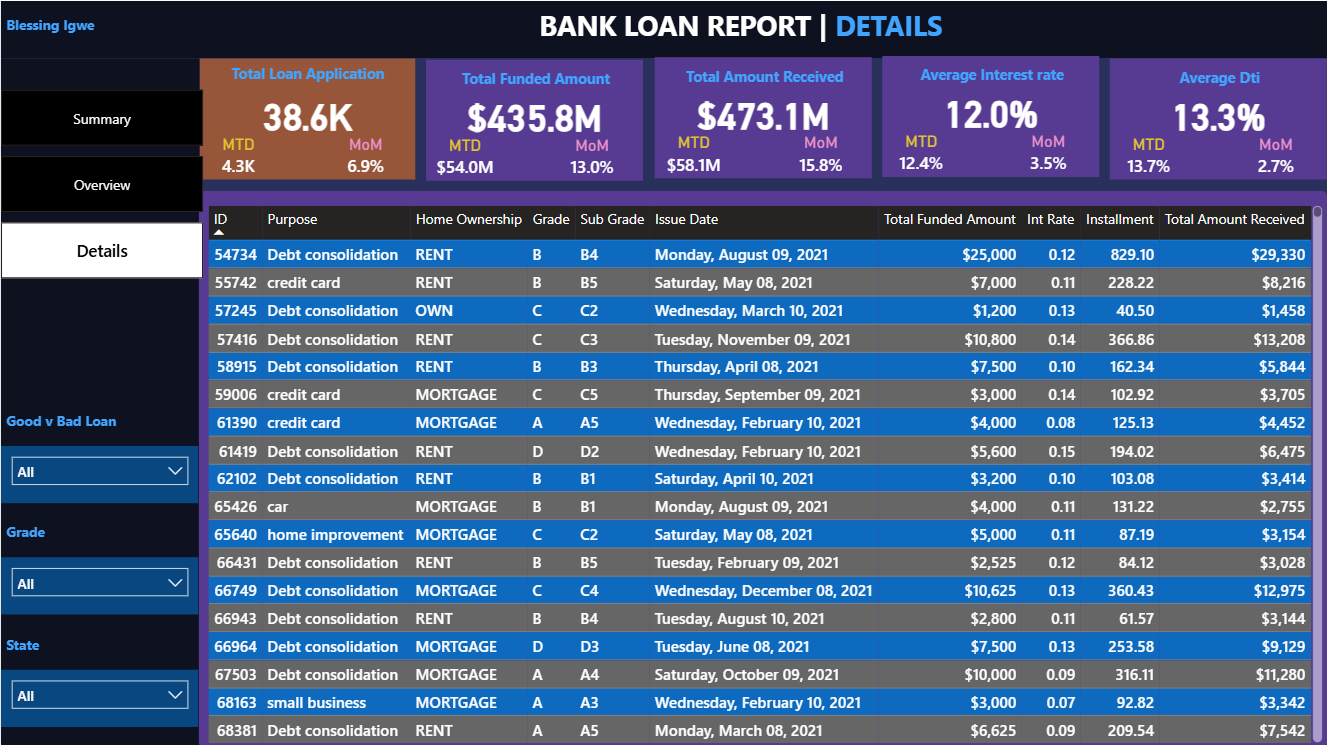

What the dashboard file says about the page in this screenshot:
{"tool":"powerbi","page":{"name":"Details","canvas":[1280,720],"ordinal":2},"visuals":[{"type":"shape","box":[0,0,1280.3,55],"z":0},{"type":"shape","box":[0,55.5,191.8,664.7],"z":1000},{"type":"textbox","box":[495.8,0,444,55.5],"z":2000},{"type":"shape","box":[850.2,53.1,209.4,117],"z":3000,"group":"g4"},{"type":"shape","box":[630.4,54.3,209.4,117],"z":3000,"group":"g3"},{"type":"group","id":"g1","title":"Group 1","box":[191.8,55.5,208.7,117],"z":3000},{"type":"shape","box":[191.8,55.5,208.2,117],"z":3000,"group":"g1"},{"type":"shape","box":[1070.1,55.5,209.4,117],"z":3000,"group":"g5"},{"type":"shape","box":[410.5,56.7,209.4,117],"z":3000,"group":"g2"},{"type":"group","id":"g2","title":"Group 1","box":[410.5,56.7,209.9,117],"z":4000},{"type":"card","fields":{"Values":["_Measures.Avg Interest Rate"]},"box":[850.2,85.7,209.9,42.2],"z":4000,"group":"g4"},{"type":"card","fields":{"Values":["_Measures.Total Amount Received"]},"box":[630.4,86.9,209.9,42.2],"z":4000,"group":"g3"},{"type":"card","fields":{"Values":["_Measures.Total Loan Applications"]},"box":[191.8,88.1,208.7,42.2],"z":4000,"group":"g1"},{"type":"card","fields":{"Values":["_Measures.Average Dti"]},"box":[1070.1,88.1,209.9,42.2],"z":4000,"group":"g5"},{"type":"card","fields":{"Values":["_Measures.Total Funded Amount"]},"box":[410.5,89.3,209.9,42.2],"z":4000,"group":"g2"},{"type":"group","id":"g3","title":"Group 1","box":[630.4,54.3,209.9,117],"z":5000},{"type":"textbox","box":[191.8,55.5,208.7,32.6],"z":5000,"group":"g1"},{"type":"textbox","box":[852.6,57.1,207.5,29],"z":5000,"group":"g4"},{"type":"textbox","box":[632.8,58.3,207.5,29],"z":5000,"group":"g3"},{"type":"textbox","box":[1072.5,59.5,207.5,29],"z":5000,"group":"g5"},{"type":"textbox","box":[412.9,60.7,207.5,29],"z":5000,"group":"g2"},{"type":"group","id":"g4","title":"Group 1","box":[850.2,53.1,209.9,117],"z":6000},{"type":"card","title":"MTD","fields":{"Values":["_Measures.MTD Avg Int Rate"]},"box":[850.2,126.7,75.1,43.4],"z":6000,"group":"g4"},{"type":"card","title":"MTD","fields":{"Values":["_Measures.MTD Amount Received"]},"box":[630.4,127.9,75.1,43.4],"z":6000,"group":"g3"},{"type":"card","title":"MTD","fields":{"Values":["_Measures.MTD Loan Applications"]},"box":[191.8,129.1,74.7,43.4],"z":6000,"group":"g1"},{"type":"card","title":"MTD","fields":{"Values":["_Measures.MTD Dti"]},"box":[1070.1,129.1,75.1,43.4],"z":6000,"group":"g5"},{"type":"card","title":"MTD","fields":{"Values":["_Measures.MTD Funded Amount"]},"box":[410.5,130.3,75.1,43.4],"z":6000,"group":"g2"},{"type":"group","id":"g5","title":"Group 1","box":[1070.1,55.5,209.9,117],"z":7000},{"type":"card","title":"MoM","fields":{"Values":["_Measures.Mom Avg Int"]},"box":[977.2,126.7,67.4,43.4],"z":7000,"group":"g4"},{"type":"card","title":"MoM","fields":{"Values":["_Measures.Mom Amount Received"]},"box":[757.4,127.9,67.4,43.4],"z":7000,"group":"g3"},{"type":"card","title":"MoM","fields":{"Values":["_Measures.Mom Loan Applications"]},"box":[318.1,129.1,67,43.4],"z":7000,"group":"g1"},{"type":"card","title":"MoM","fields":{"Values":["_Measures.Mom Dti"]},"box":[1197.1,129.1,67.4,43.4],"z":7000,"group":"g5"},{"type":"card","title":"MoM","fields":{"Values":["_Measures.Mom Amount Funded"]},"box":[537.5,130.3,67.4,43.4],"z":7000,"group":"g2"},{"type":"slicer","fields":{"Values":["financial_loan.address_state"]},"box":[0,645.4,190.6,55.5],"z":8000},{"type":"textbox","box":[0,606.8,56.7,38.6],"z":9000},{"type":"textbox","box":[0,498.3,65.1,38.6],"z":10000},{"type":"textbox","box":[0,390.9,139.9,38.6],"z":11000},{"type":"slicer","fields":{"Values":["financial_loan.Good v Bad Loan"]},"box":[0,429.5,190.6,55.5],"z":12000},{"type":"slicer","fields":{"Values":["financial_loan.grade"]},"box":[0,536.9,190.6,55.5],"z":13000},{"type":"textbox","box":[0,8.4,112.2,38.6],"z":14000},{"type":"shape","box":[190.6,183.4,1089.4,536.9],"z":15000},{"type":"tableEx","fields":{"Values":["financial_loan.id","financial_loan.purpose","financial_loan.home_ownership","financial_loan.grade","financial_loan.sub_grade","financial_loan.issue_date","_Measures.Total Funded Amount","Sum(financial_loan.int_rate)","Sum(financial_loan.installment)","_Measures.Total Amount Received"]},"box":[194.2,193,1085.8,527.2],"z":18000},{"type":"pageNavigator","box":[0,85.7,195.4,184.6],"z":19000}]}

Visuals, with their boxes on the page's 1280x720 design canvas (x1, y1, x2, y2). These are canvas units, not pixel positions in the 1327x745 screenshot, which may show the page scaled, cropped or inside an application window:
shape: <region>0, 0, 1280, 55</region>
shape: <region>0, 56, 192, 720</region>
textbox: <region>496, 0, 940, 56</region>
shape: <region>850, 53, 1060, 170</region>
shape: <region>630, 54, 840, 171</region>
"Group 1" group: <region>192, 56, 400, 172</region>
shape: <region>192, 56, 400, 172</region>
shape: <region>1070, 56, 1280, 172</region>
shape: <region>410, 57, 620, 174</region>
"Group 1" group: <region>410, 57, 620, 174</region>
card - _Measures.Avg Interest Rate: <region>850, 86, 1060, 128</region>
card - _Measures.Total Amount Received: <region>630, 87, 840, 129</region>
card - _Measures.Total Loan Applications: <region>192, 88, 400, 130</region>
card - _Measures.Average Dti: <region>1070, 88, 1280, 130</region>
card - _Measures.Total Funded Amount: <region>410, 89, 620, 132</region>
"Group 1" group: <region>630, 54, 840, 171</region>
textbox: <region>192, 56, 400, 88</region>
textbox: <region>853, 57, 1060, 86</region>
textbox: <region>633, 58, 840, 87</region>
textbox: <region>1072, 60, 1280, 88</region>
textbox: <region>413, 61, 620, 90</region>
"Group 1" group: <region>850, 53, 1060, 170</region>
"MTD" card: <region>850, 127, 925, 170</region>
"MTD" card: <region>630, 128, 706, 171</region>
"MTD" card: <region>192, 129, 266, 172</region>
"MTD" card: <region>1070, 129, 1145, 172</region>
"MTD" card: <region>410, 130, 486, 174</region>
"Group 1" group: <region>1070, 56, 1280, 172</region>
"MoM" card: <region>977, 127, 1045, 170</region>
"MoM" card: <region>757, 128, 825, 171</region>
"MoM" card: <region>318, 129, 385, 172</region>
"MoM" card: <region>1197, 129, 1264, 172</region>
"MoM" card: <region>538, 130, 605, 174</region>
slicer - financial_loan.address_state: <region>0, 645, 191, 701</region>
textbox: <region>0, 607, 57, 645</region>
textbox: <region>0, 498, 65, 537</region>
textbox: <region>0, 391, 140, 430</region>
slicer - financial_loan.Good v Bad Loan: <region>0, 430, 191, 485</region>
slicer - financial_loan.grade: <region>0, 537, 191, 592</region>
textbox: <region>0, 8, 112, 47</region>
shape: <region>191, 183, 1280, 720</region>
tableEx - financial_loan.id x financial_loan.purpose: <region>194, 193, 1280, 720</region>
pageNavigator: <region>0, 86, 195, 270</region>
